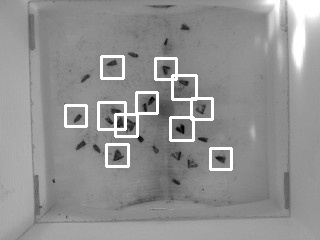insect: (111, 147, 125, 162), (125, 117, 136, 133), (160, 63, 172, 76), (194, 103, 207, 115), (74, 139, 87, 151), (186, 158, 199, 169), (126, 50, 140, 60), (79, 72, 90, 84), (72, 112, 83, 124), (104, 114, 115, 126), (170, 150, 182, 161), (103, 58, 118, 66), (175, 123, 185, 135), (178, 78, 191, 87), (115, 115, 124, 128), (147, 94, 156, 106), (109, 106, 122, 114), (196, 135, 209, 143), (136, 133, 145, 144), (92, 142, 101, 153), (151, 144, 160, 154), (171, 176, 181, 185), (179, 23, 190, 31), (141, 101, 148, 113), (214, 155, 226, 162), (162, 37, 168, 47)
